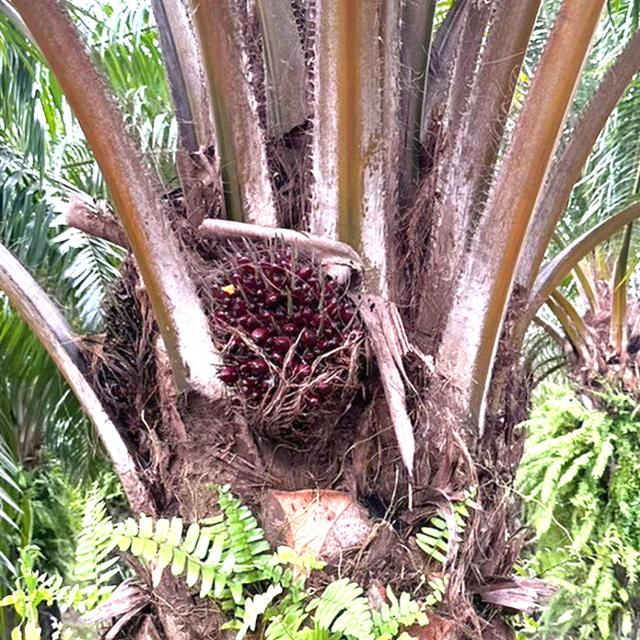ripe: (185, 219, 387, 421)
